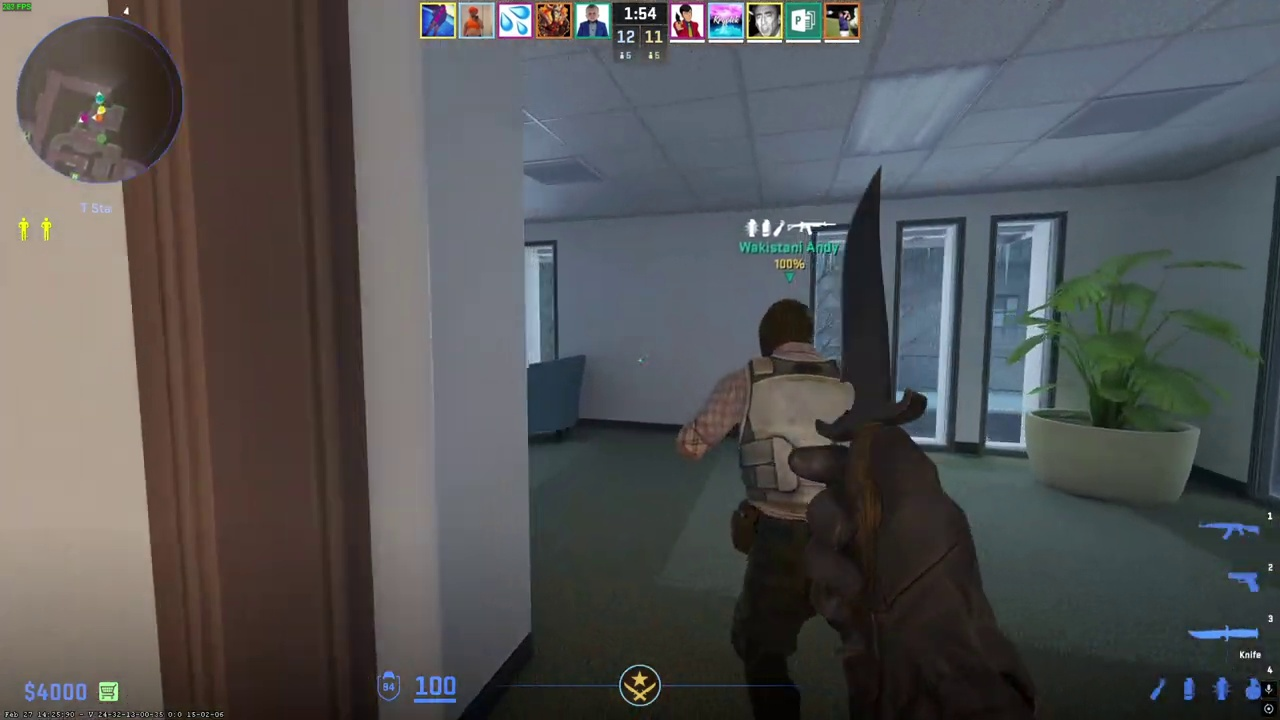Terrorist: (700, 296, 897, 720)
